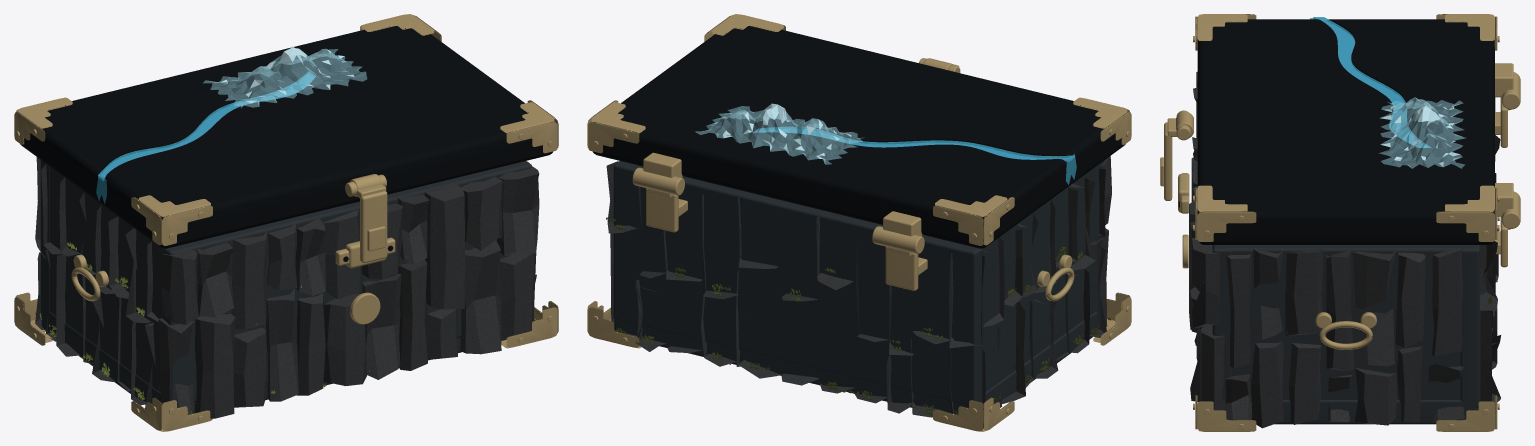
The model's file is approved-v6.glb.
3 views of the same model, side by side, from view 1: azimuth 30°, elevation 25°; view 2: azimuth 150°, elevation 25°; view 3: azimuth 270°, elevation 25° (orthographic). The views are drawn at different scales.
Parts seen in each view (by area): view 1: Lid / polished slab, Interior wall / end, Interior wall / front, Glacier / asymmetric raised ice ridge, Basalt fracture / front.017, Basalt fracture / front.018, Basalt fracture / front.002, Basalt fracture / front.010, Basalt fracture / front.006, Basalt fracture / front.021, Basalt fracture / front.005, Basalt fracture / front.012 (+37 smaller); view 2: Lid / polished slab, Interior wall / rear, Interior wall / end, Interior floor, Glacier / asymmetric raised ice ridge, River / inset organic blue, Hinge / fixed mount, Hinge / fixed mount.001, Corner strap / wrapped y.007, Basalt fracture / left.010, Corner strap / wrapped y.002, Corner strap / wrapped y.006 (+25 smaller); view 3: Lid / polished slab, Interior wall / end.001, Glacier / asymmetric raised ice ridge, Basalt fracture / right.009, Basalt fracture / right.013, Basalt fracture / right.005, Interior wall / rear, Basalt fracture / right.007, Basalt fracture / right.011, Basalt fracture / right.002, Basalt fracture / right.001, Basalt fracture / right.004 (+32 smaller).
Boxes of the visible parts, x1,y1,x2,y2 form: Lid / polished slab: [20, 26, 553, 248]; Interior wall / end: [50, 166, 161, 391]; Interior wall / front: [162, 161, 532, 402]; Glacier / asymmetric raised ice ridge: [203, 46, 367, 107]; Basalt fracture / front.017: [425, 184, 465, 309]; Basalt fracture / front.018: [460, 240, 501, 354]; Basalt fracture / front.002: [195, 314, 235, 418]; Basalt fracture / front.010: [323, 293, 366, 385]; Basalt fracture / front.006: [266, 289, 298, 401]; Basalt fracture / front.021: [497, 164, 539, 255]; Basalt fracture / front.005: [231, 230, 267, 329]; Basalt fracture / front.012: [362, 274, 401, 379]; Lid / polished slab: [592, 26, 1125, 248]; Interior wall / rear: [613, 161, 983, 406]; Interior wall / end: [984, 166, 1095, 391]; Interior floor: [614, 311, 1099, 414]; Glacier / asymmetric raised ice ridge: [695, 103, 864, 164]; River / inset organic blue: [753, 127, 1074, 161]; Hinge / fixed mount: [885, 246, 918, 290]; Hinge / fixed mount.001: [646, 188, 678, 232]; Corner strap / wrapped y.007: [588, 307, 639, 347]; Basalt fracture / left.010: [1001, 302, 1025, 403]; Corner strap / wrapped y.002: [933, 205, 983, 245]; Corner strap / wrapped y.006: [588, 122, 639, 153]; Lid / polished slab: [1197, 19, 1494, 244]; Interior wall / end.001: [1230, 245, 1462, 399]; Glacier / asymmetric raised ice ridge: [1379, 97, 1465, 168]; Basalt fracture / right.009: [1353, 249, 1396, 366]; Basalt fracture / right.013: [1432, 249, 1462, 355]; Basalt fracture / right.005: [1285, 245, 1323, 335]; Interior wall / rear: [1460, 245, 1479, 407]; Basalt fracture / right.007: [1325, 250, 1354, 371]; Basalt fracture / right.011: [1395, 252, 1425, 347]; Basalt fracture / right.002: [1251, 341, 1283, 428]; Basalt fracture / right.001: [1226, 254, 1251, 368]; Basalt fracture / right.004: [1289, 343, 1321, 424].
Size of the model in its own units: 3.83 by 2.22 by 2.88.
15 materials, 5 textured.
